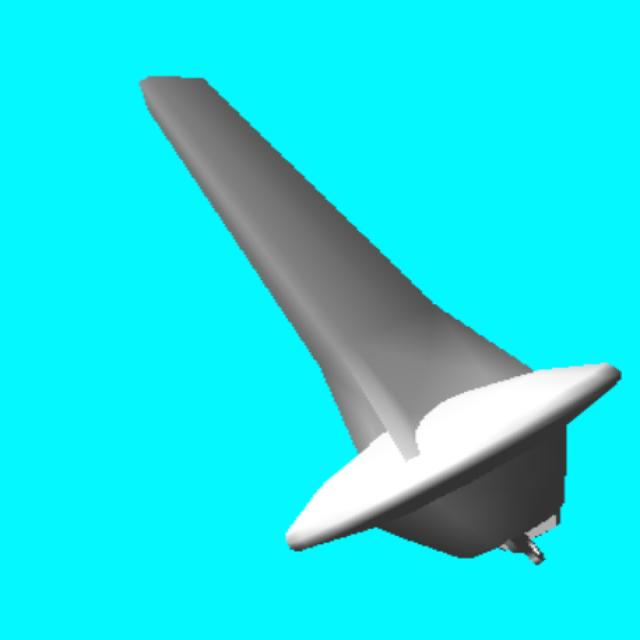WhiteBuoy: (144, 80, 624, 566)
